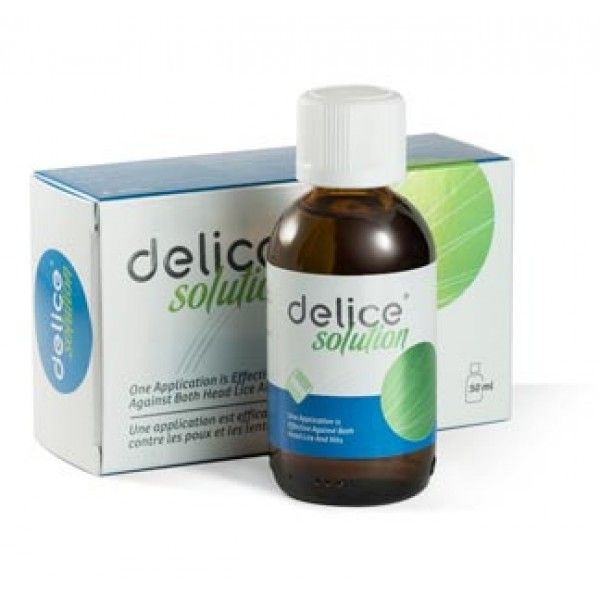Medicine: (22, 148, 542, 483), (262, 75, 455, 507)
